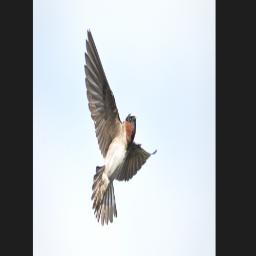Swallow: (83, 25, 158, 231)
